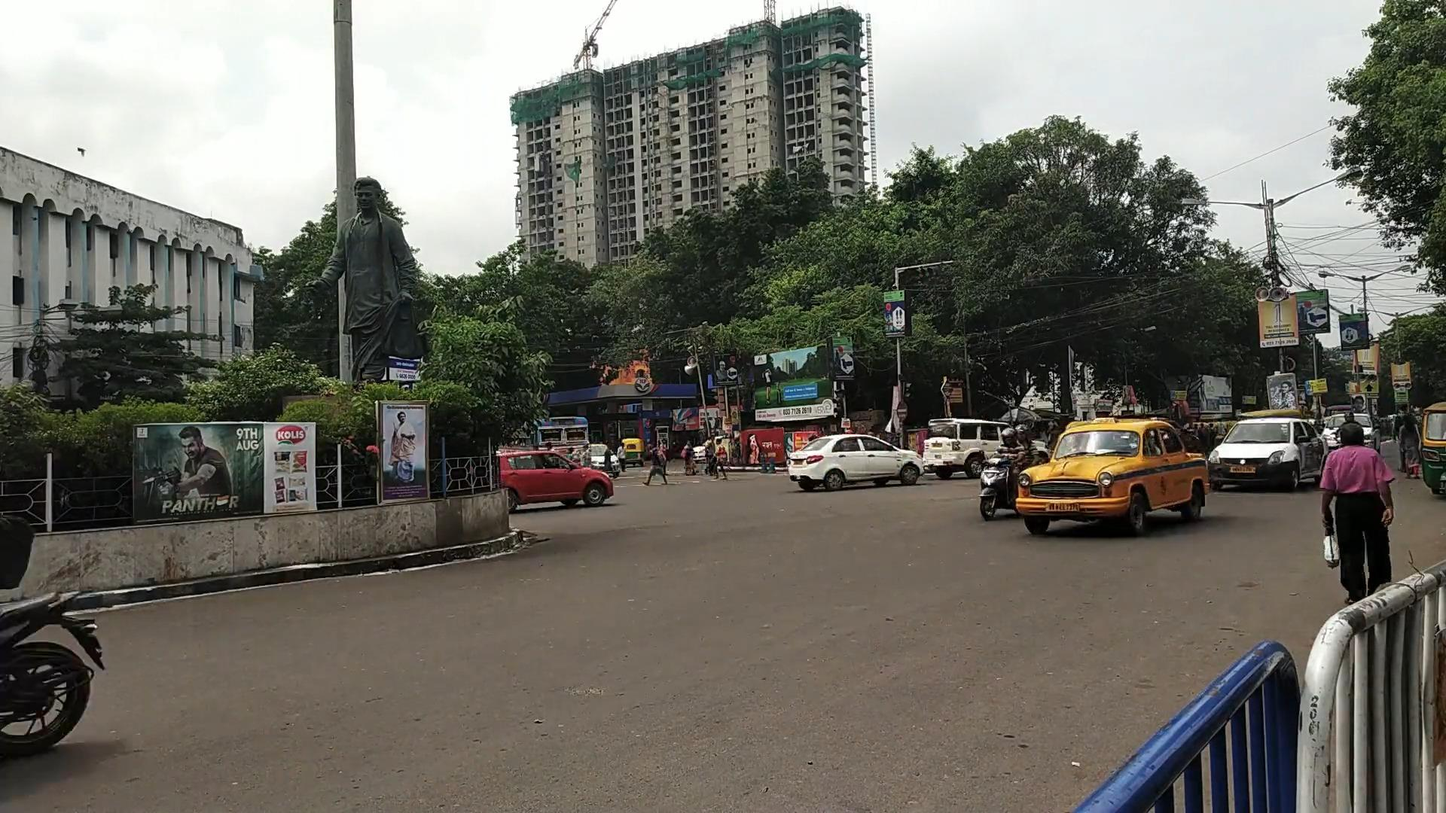driver: (979, 424, 1040, 520)
